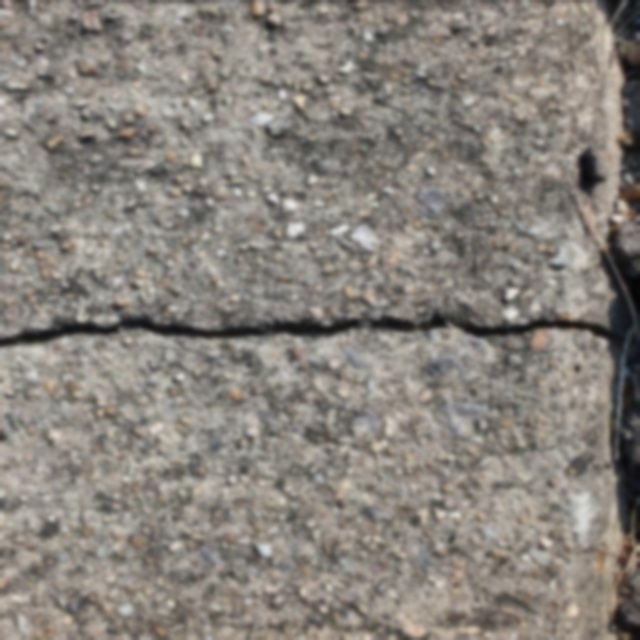SurfaceCrack: (0, 250, 635, 412)
